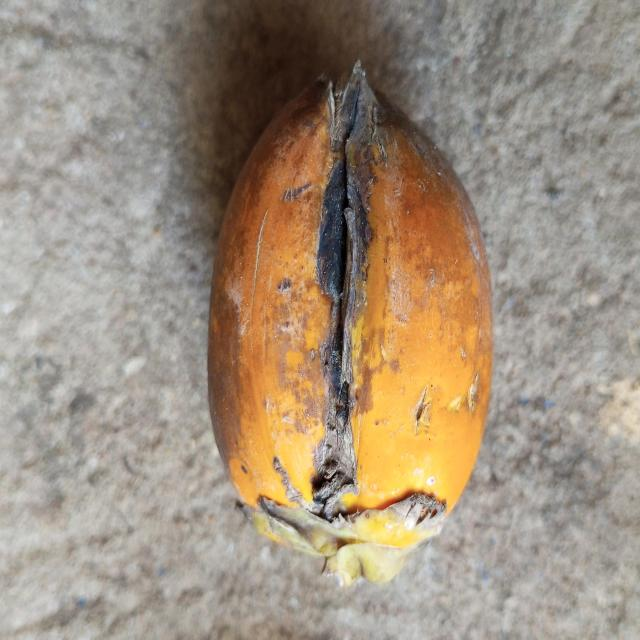damaged: (207, 64, 495, 587)
